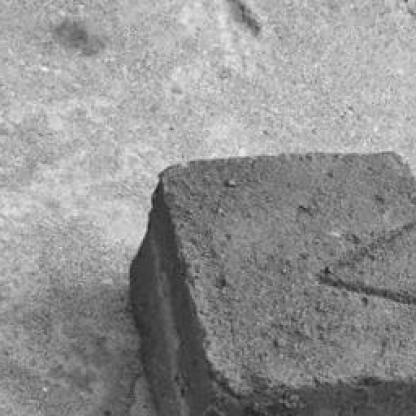brick: (127, 152, 414, 414)
